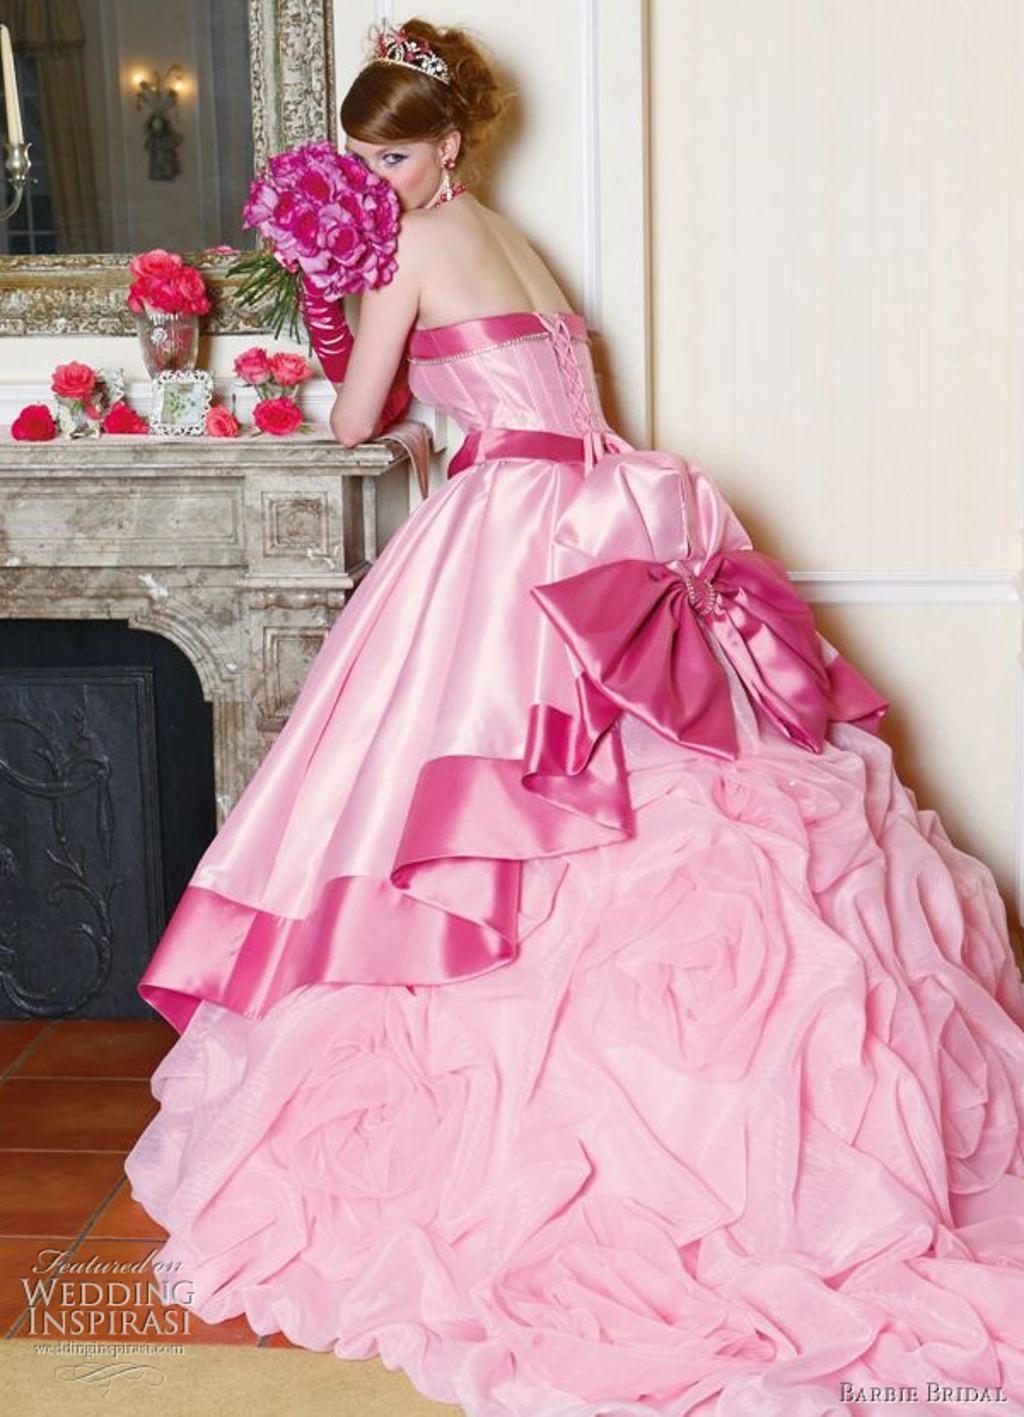face: (349, 102, 440, 215)
